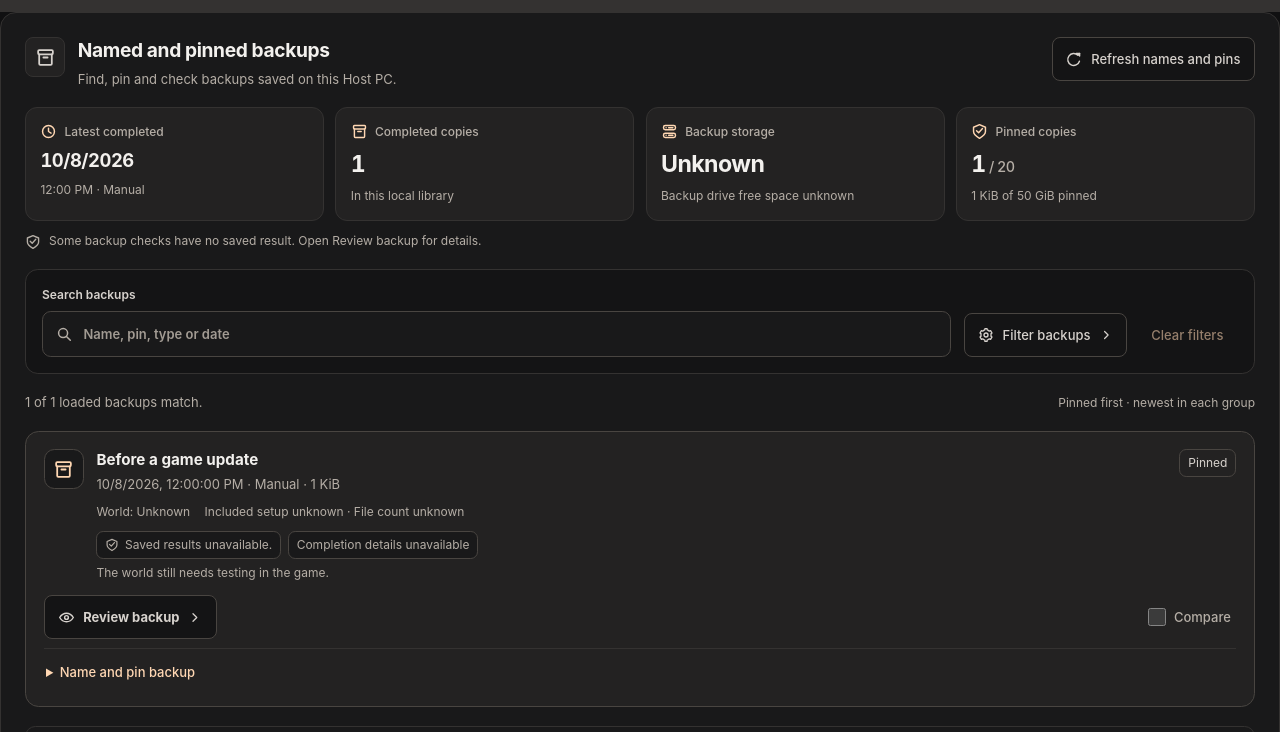
Test: BackupBookmarks › saves a deliberate name/unpin change for the exact backup and explains later retention
Expected: the text "Before a game update" is shown, [96,450,258,469]
Click the heading "Name and pin backup".
click(127, 672)  # box [60,664,195,680]
(page scrolled)
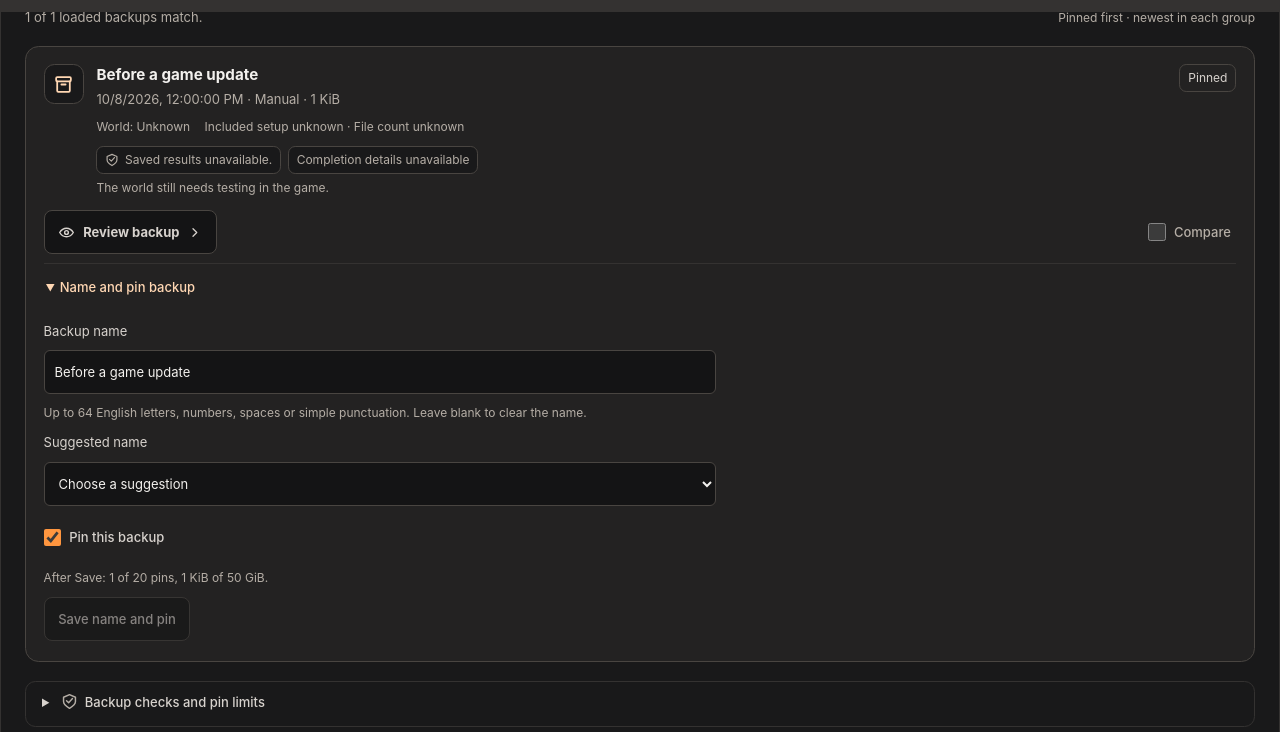
Type "  Before new mods  " into the field labelled "Backup name".
click(380, 372); type("  Before new mods  ")  # box [44,350,716,394]
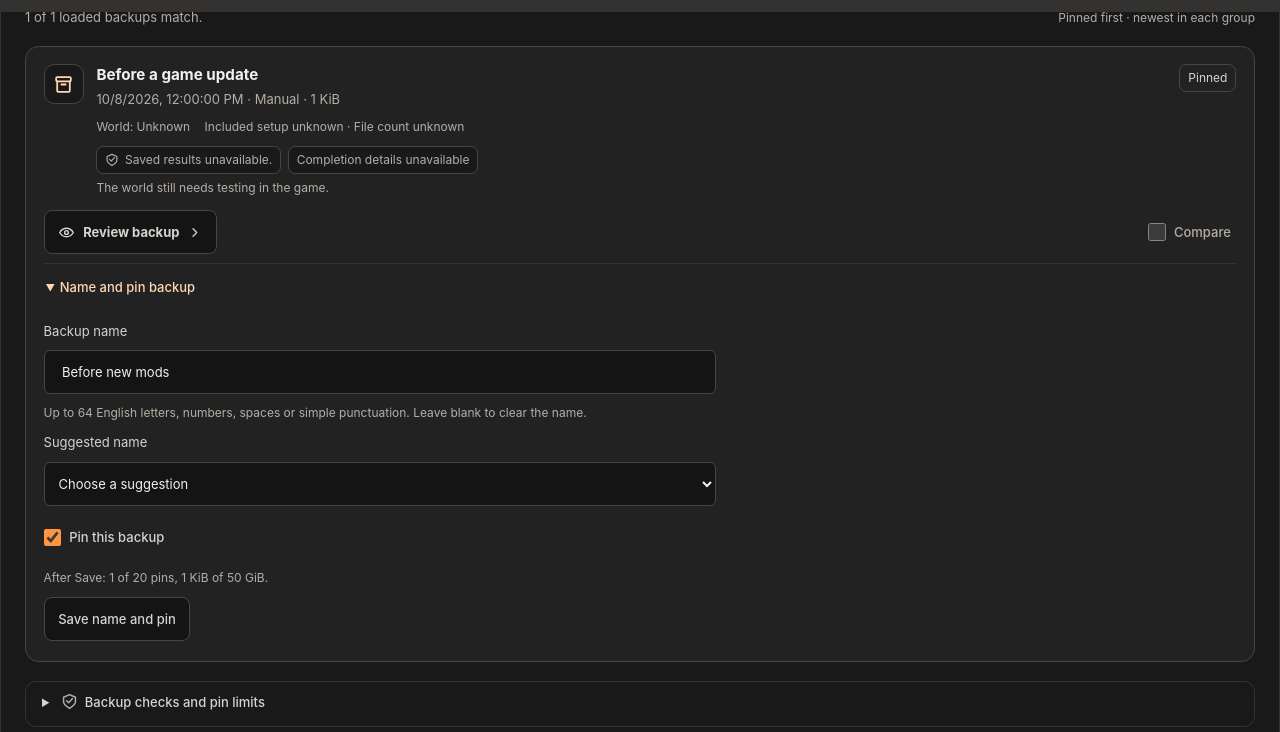
Click the checkbox labelled "Pin this backup".
click(52, 537)  # box [44,529,61,546]
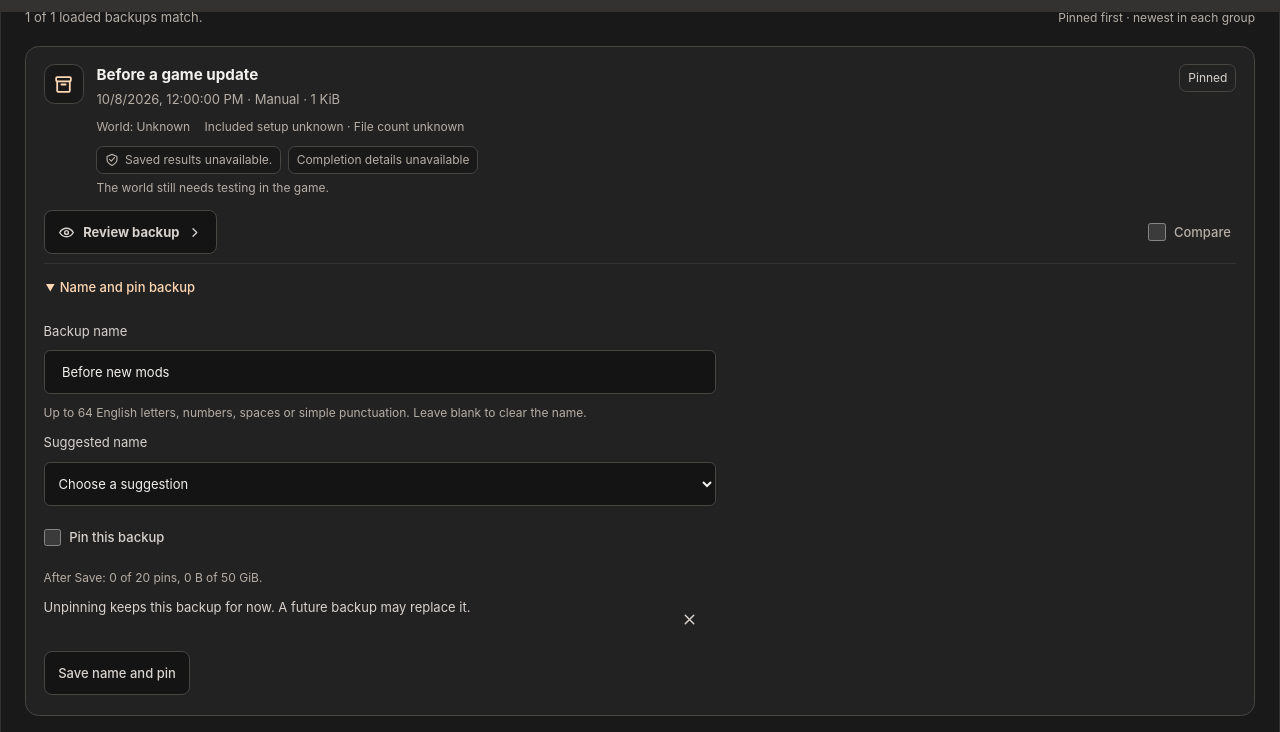
Expected: the text "Unpinning keeps this backup for now. A future backup may replace it." is shown, [44,597,716,641]
Click the button "Save name and pin".
click(117, 673)  # box [44,651,190,695]
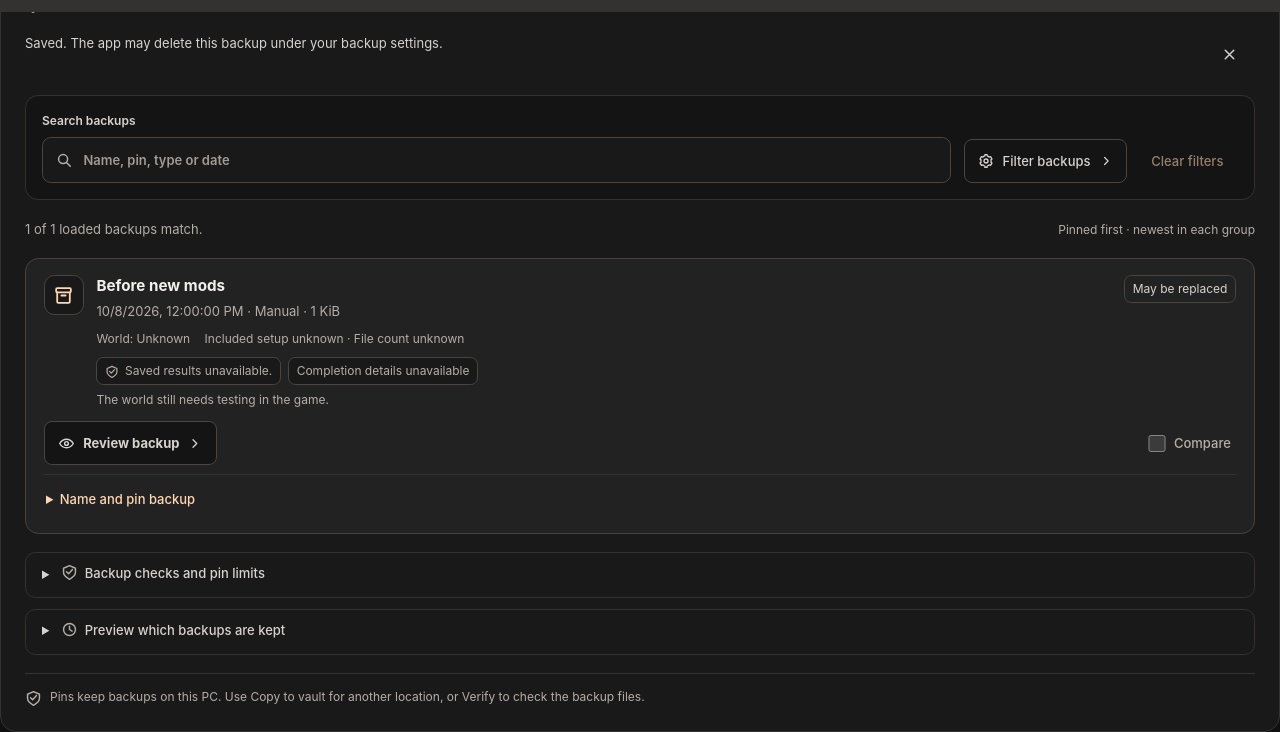
Expected: the text "Saved. The app may delete this backup under your backup settings." is shown, [25,33,1255,77]
Expected: the text "Use Copy to vault" is shown, [50,689,645,704]
